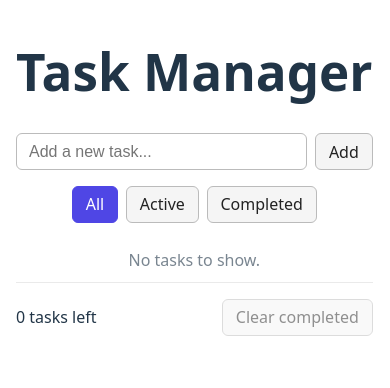
Test: App › clears completed tasks
In the field labelled "new task": (162, 152) [16,133,307,170], type "Keep me"
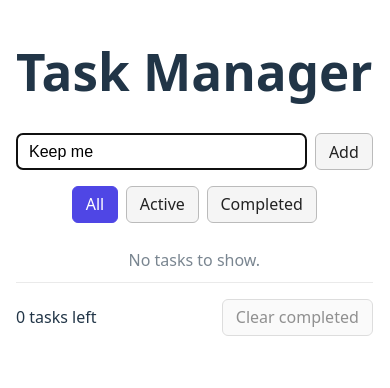
Click the button "Add": (344, 152) [315,133,373,170]
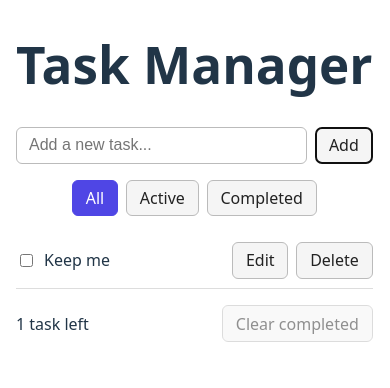
In the field labelled "new task": (162, 145) [16,127,307,164], type "Remove me"
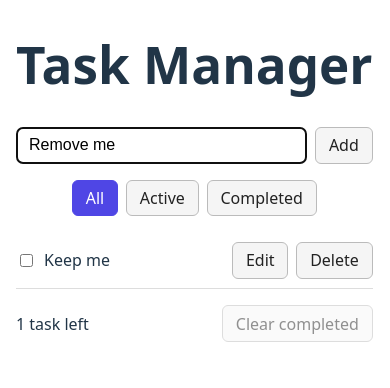
Click the button "Add": (344, 145) [315,127,373,164]
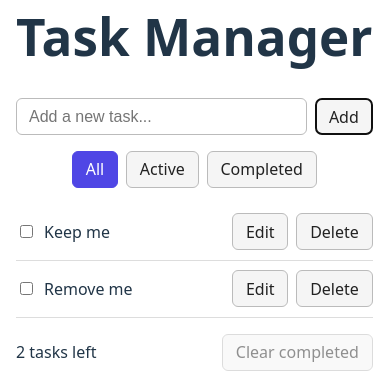
Click the checkbox named "Mark \"Remove me\" as completed": (26, 289) [20,282,33,295]
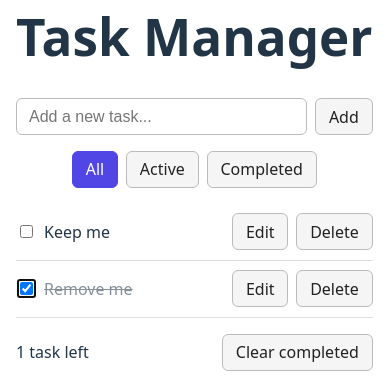
Click the button "Clear completed": (297, 352) [222,334,373,371]
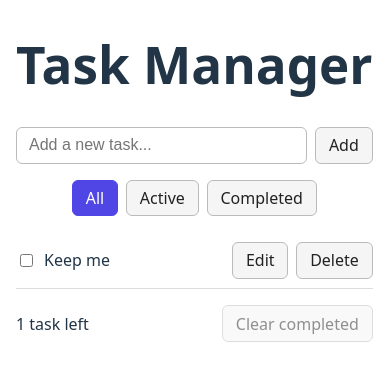
Expected: the text "Keep me" is shown, [44,249,110,271]
Expected: the text "Remove me" is gone
